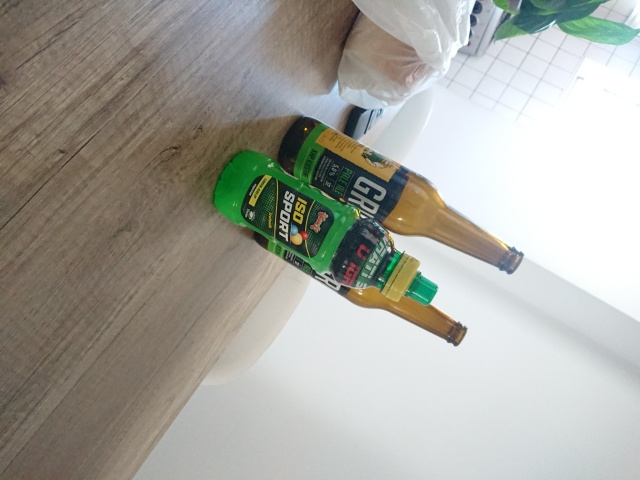Vindi Iso Sport Lemon-Grapefruit 500mL: (210, 146, 441, 309)
